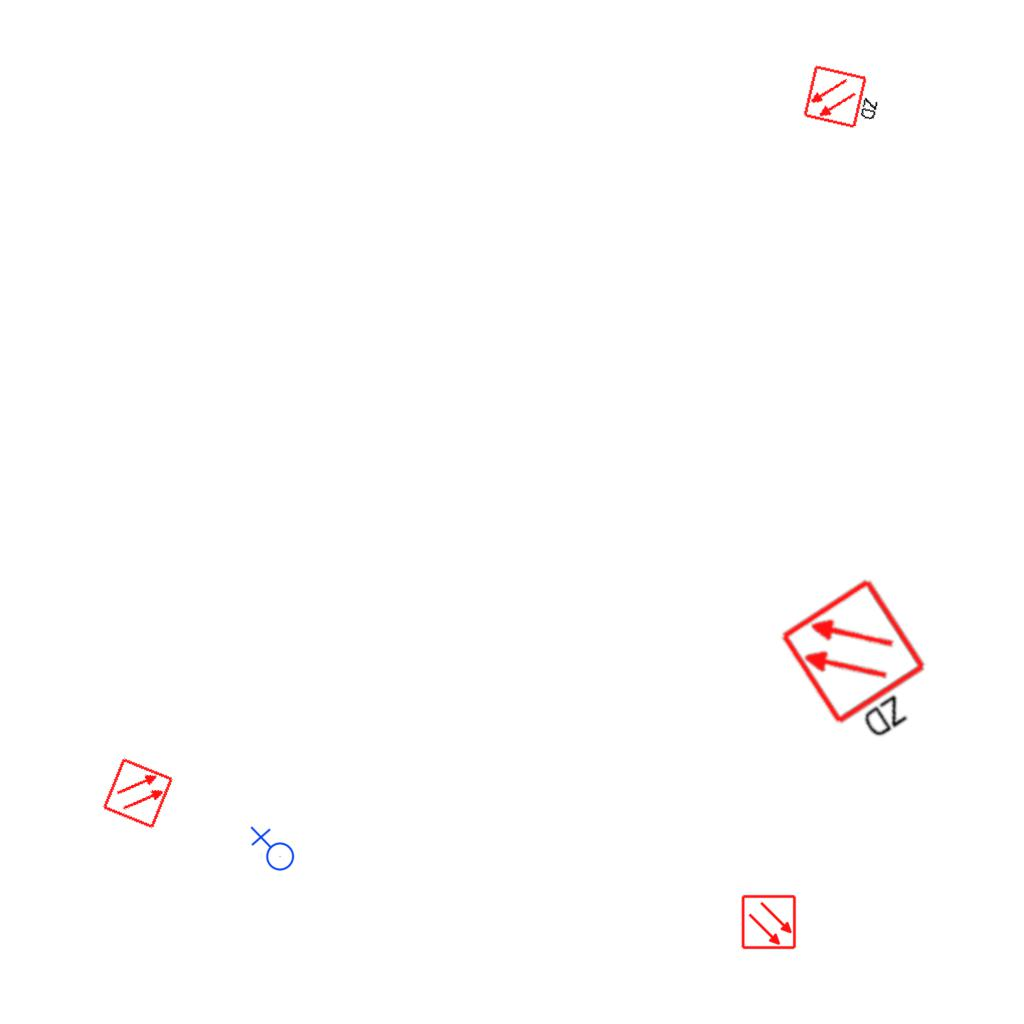Elektroanschluss_allgemein_230V_Geraeteanschlussdose_230V: (248, 826, 295, 875)
RMO_Rauchmelder_optischer: (101, 756, 175, 830), (741, 894, 797, 950)
ZD_Melder_in_Zwischendecke_mit_Revisionsoeffnung_mind_40_x_40_cm: (776, 572, 954, 761), (802, 61, 887, 135)
